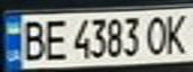3: (121, 14, 145, 57), (87, 15, 109, 60)
4: (69, 15, 93, 61)
8: (106, 15, 127, 58)
B: (15, 17, 48, 62)
E: (39, 16, 69, 62)
K: (160, 10, 193, 55)
O: (142, 12, 172, 56)
